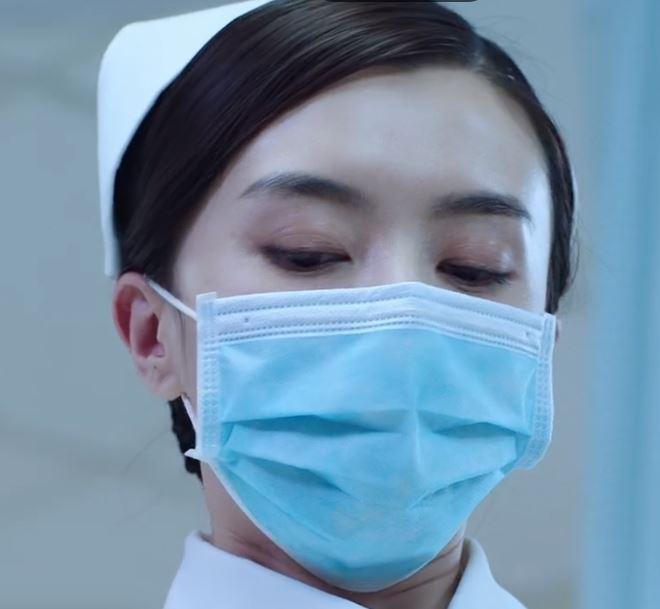OK: (194, 132, 556, 580)
